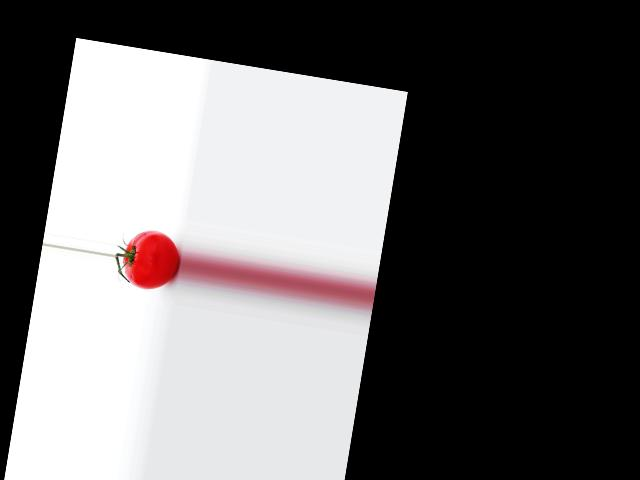tomato: (119, 225, 183, 292)
